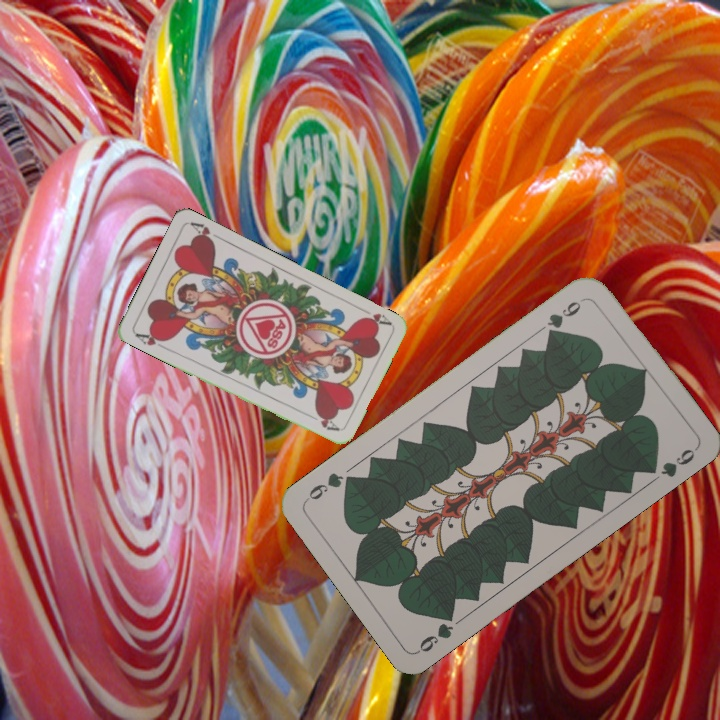G9: (543, 293, 589, 340), (414, 606, 457, 656)
HA: (355, 303, 393, 330), (131, 328, 170, 352)
